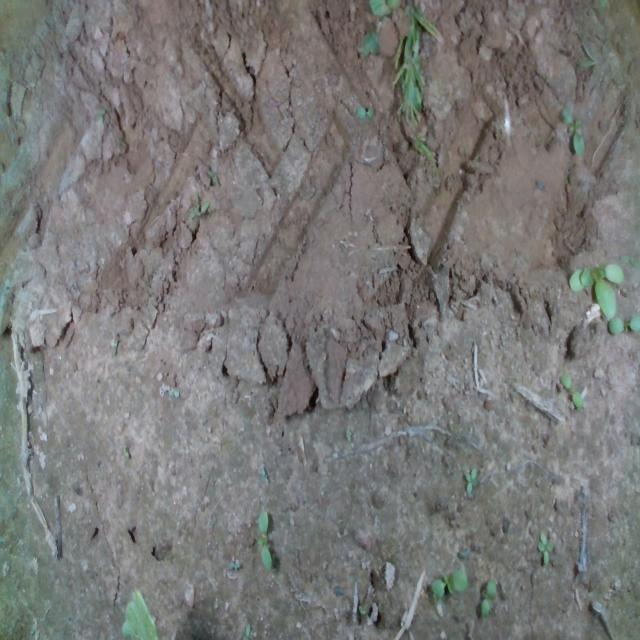weed: (560, 105, 586, 155), (429, 567, 467, 600), (256, 509, 272, 571), (559, 372, 583, 409), (535, 529, 553, 566), (480, 576, 496, 616), (465, 464, 477, 494), (354, 105, 374, 120), (345, 426, 351, 441)
